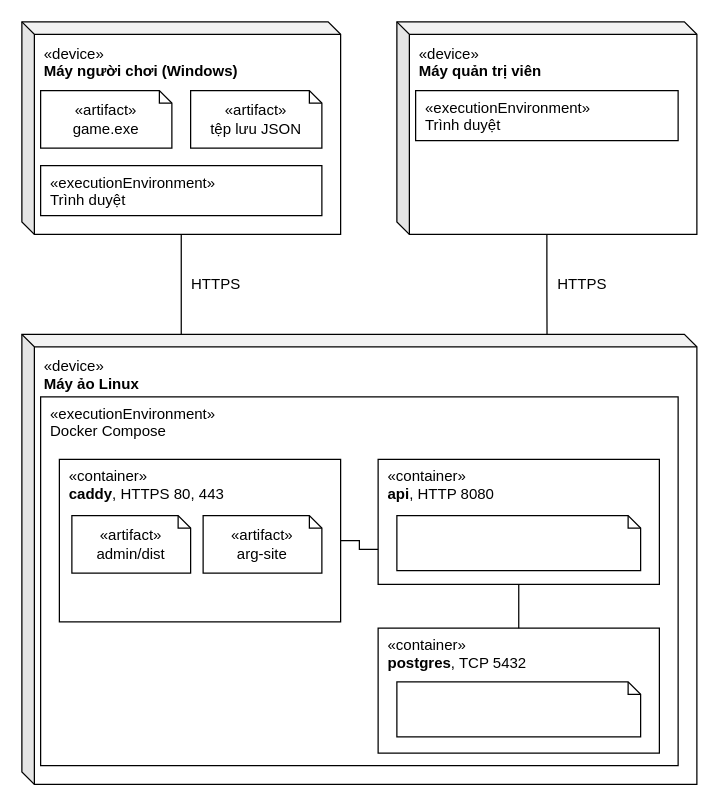
Image size: 719x806. Some labels were removed from this diagram. The centre of each missing label's shape, as x and y in pixels:
«artifact» ThreeTwelve.Api: pixel 518 542
«artifact» volume pgdata: pixel 518 709
